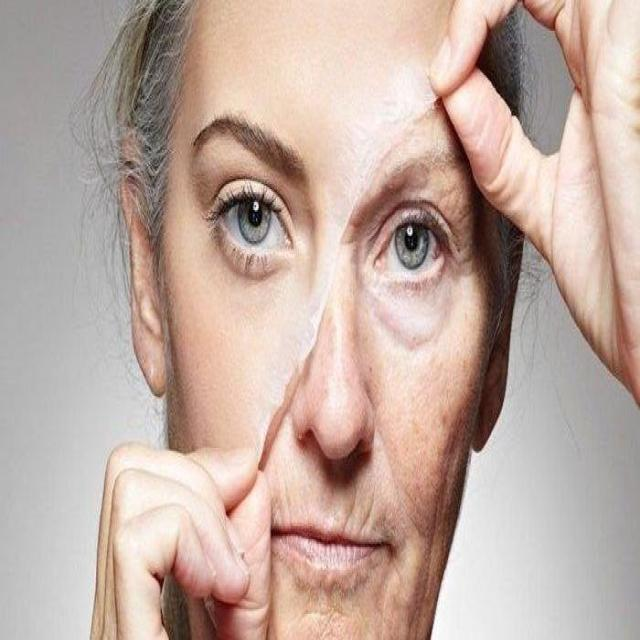Dry-Skin: (225, 274, 344, 498), (326, 78, 440, 178), (391, 371, 463, 512), (299, 592, 420, 640), (446, 162, 490, 272)
